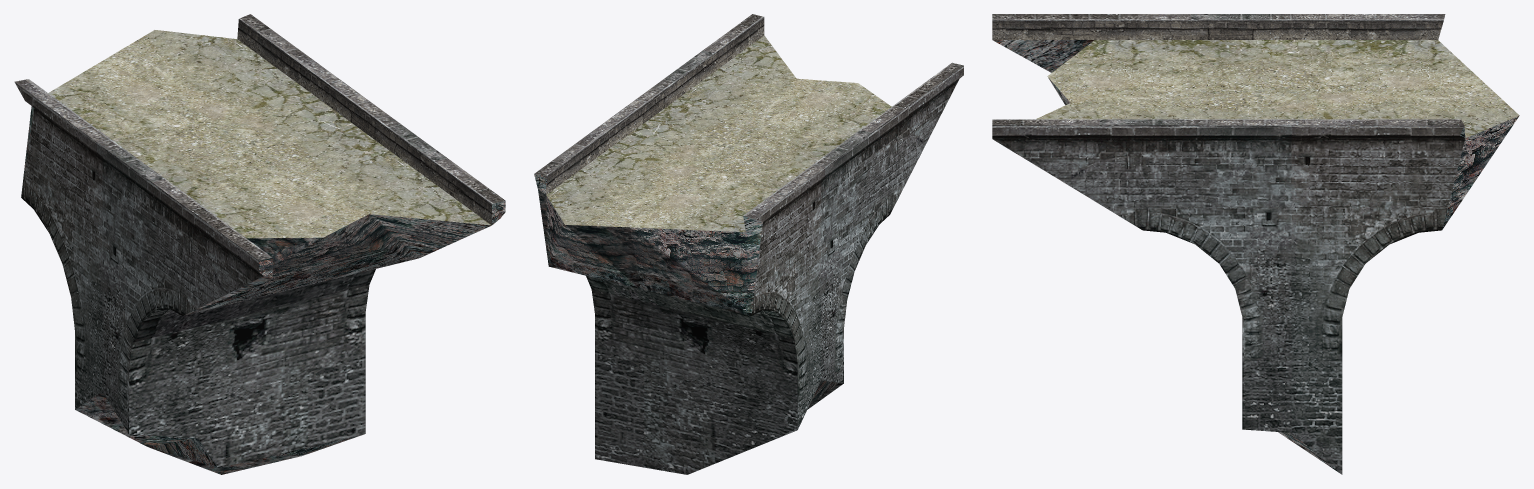
Rendered from BridgeTop3.fbx.
3 renders of one model, left to right at view 1: azimuth 30°, elevation 25°; view 2: azimuth 150°, elevation 25°; view 3: azimuth 270°, elevation 25°, orthographic. The views are drawn at different scales.
Visible parts, largest first — view 1: D03_trosky_04, D03_trosky_03, D03_trosky_02, D03_trosky_01; view 2: D03_trosky_04, D03_trosky_03, D03_trosky_01, D03_trosky_02; view 3: D03_trosky_03, D03_trosky_04, D03_trosky_01, D03_trosky_02.
Boxes of the visible parts, <box> form: D03_trosky_04: <box>14,56,376,409</box>; D03_trosky_03: <box>111,14,505,355</box>; D03_trosky_02: <box>102,329,365,467</box>; D03_trosky_01: <box>75,392,300,474</box>; D03_trosky_04: <box>630,62,963,429</box>; D03_trosky_03: <box>534,14,796,331</box>; D03_trosky_01: <box>595,314,797,474</box>; D03_trosky_02: <box>807,330,843,409</box>; D03_trosky_03: <box>992,77,1519,332</box>; D03_trosky_04: <box>992,14,1489,119</box>; D03_trosky_01: <box>1278,318,1342,474</box>; D03_trosky_02: <box>1242,325,1291,432</box>.
Size of the model in its own units: 900 by 1325 by 1801.
